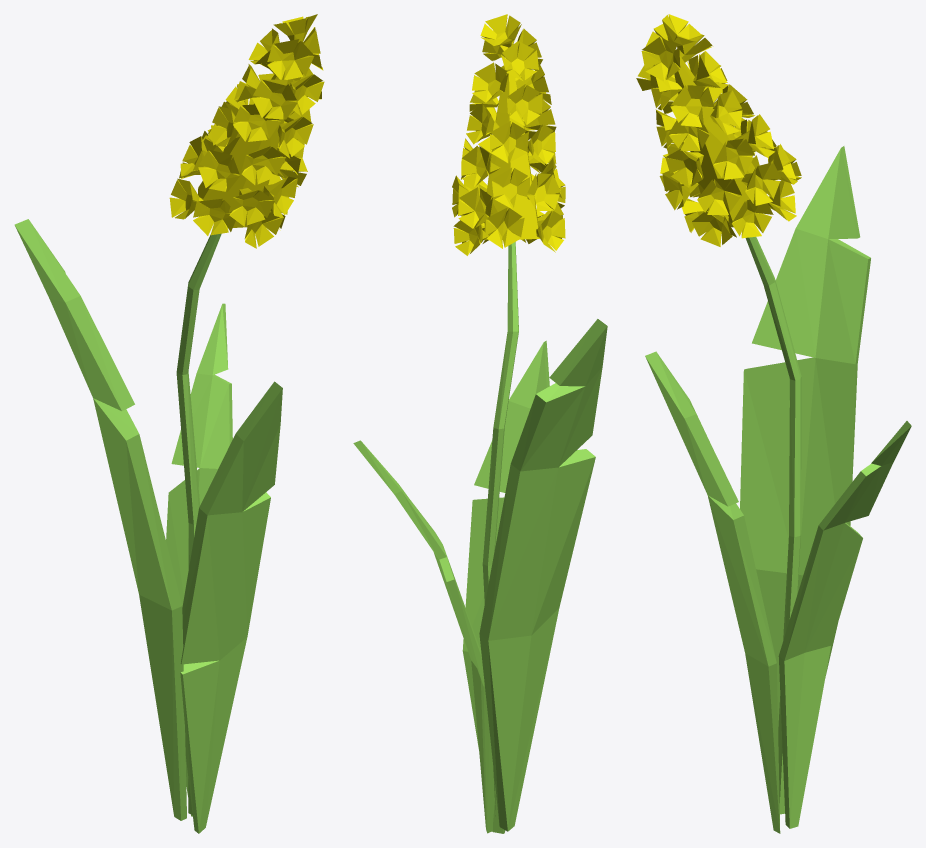
The model's file is flower_01.fbx.
The picture shows the model from 3 angles, left to right: view 1: azimuth 30°, elevation 25°; view 2: azimuth 150°, elevation 25°; view 3: azimuth 270°, elevation 25°; orthographic projection. The views are drawn at different scales.
Visible parts, largest first — view 1: flower_01; view 2: flower_01; view 3: flower_01.
Boxes of the visible parts, x1,y1,x2,y2 form: flower_01: [14, 14, 324, 833]; flower_01: [353, 14, 607, 833]; flower_01: [636, 14, 911, 833].
Size of the model in its own units: 19.39 by 63.88 by 19.09.
